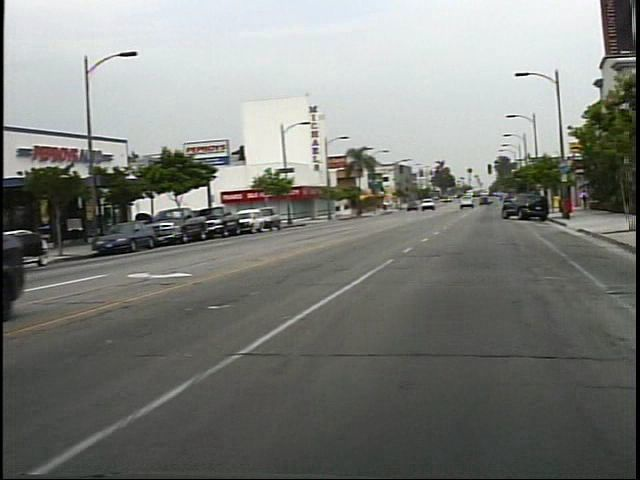person: (586, 188, 598, 213)
